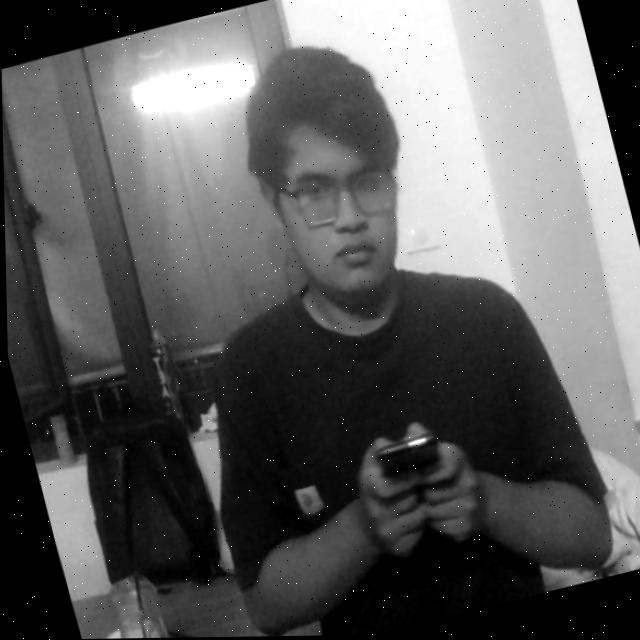phone: (354, 402, 458, 514)
